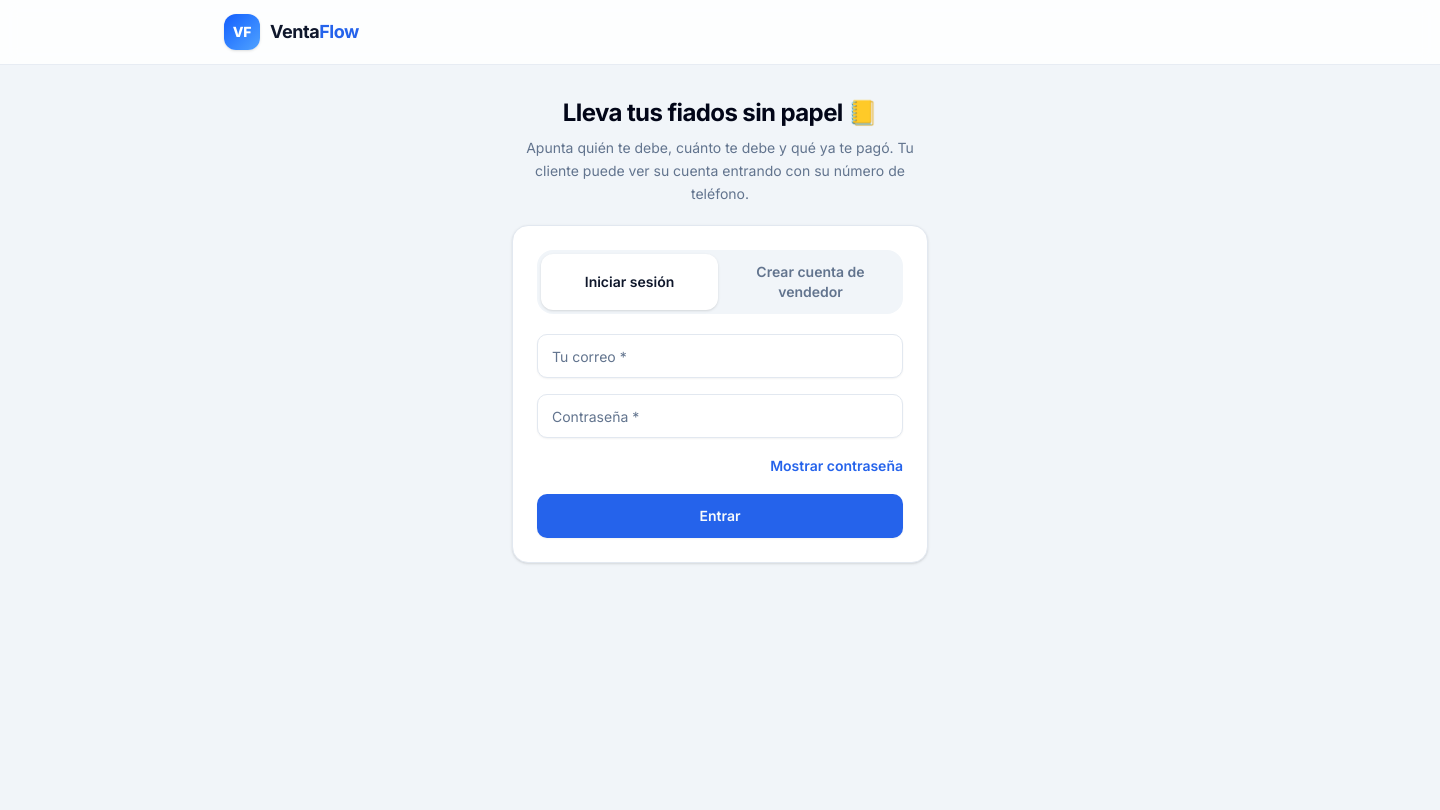
Test: VendorAuthScreen › un login fallido muestra el error traducido
Type "juan@x.com" into the field with placeholder "Tu correo *" at point(720, 356), box [537,334,903,378]
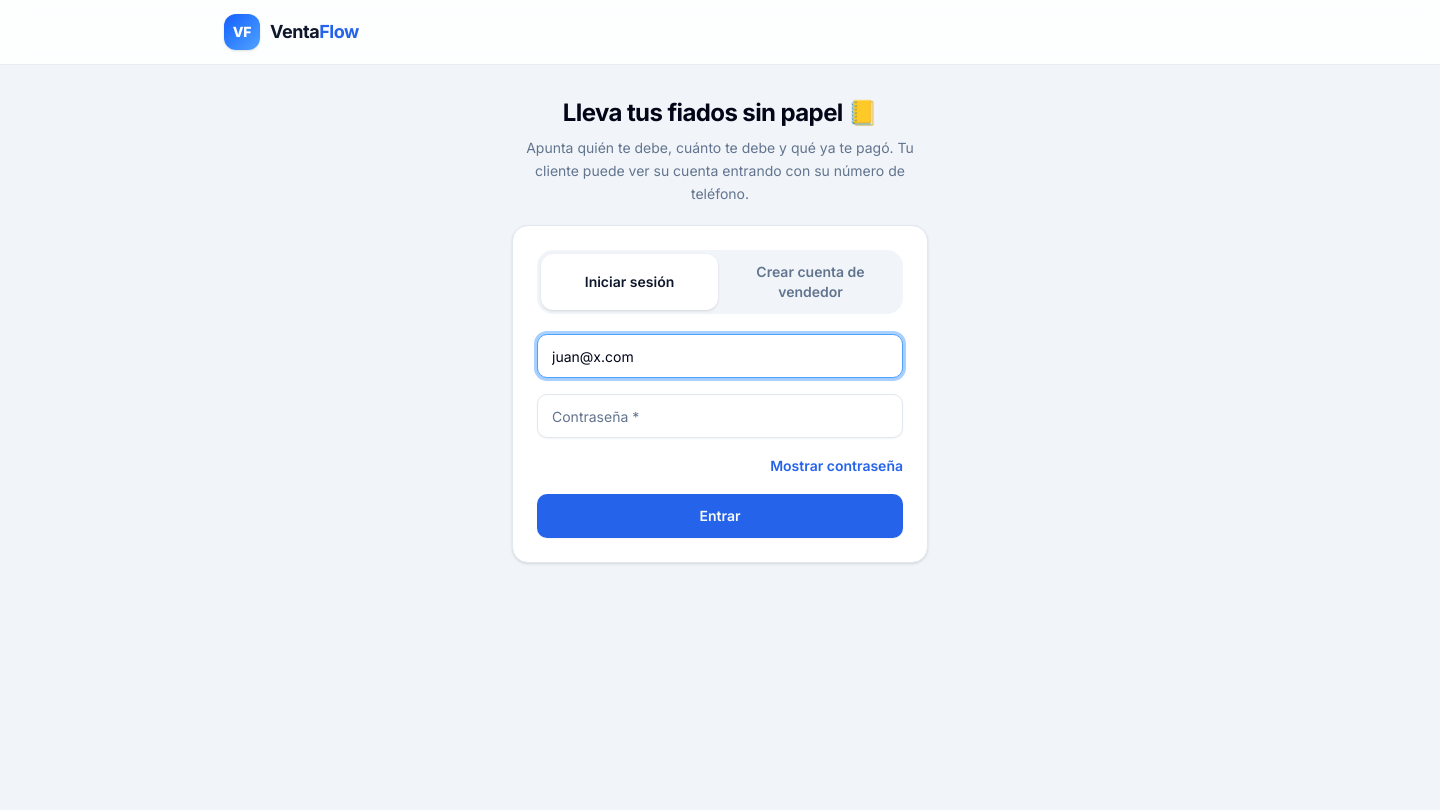
Type "mala" into the password field with placeholder "Contraseña *" at point(720, 416), box [537,394,903,438]
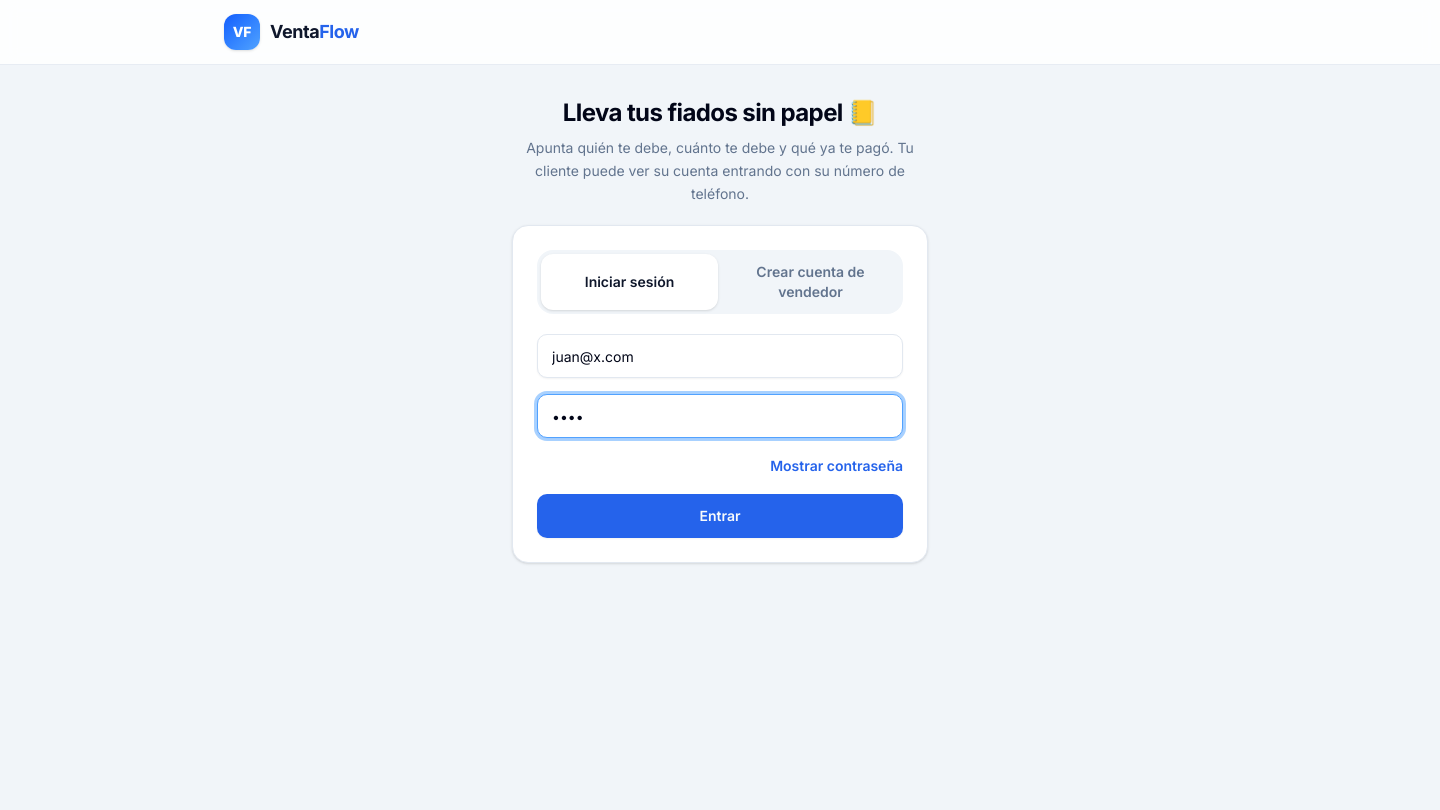
Click the button "Entrar" at point(720, 516), box [537,494,903,538]
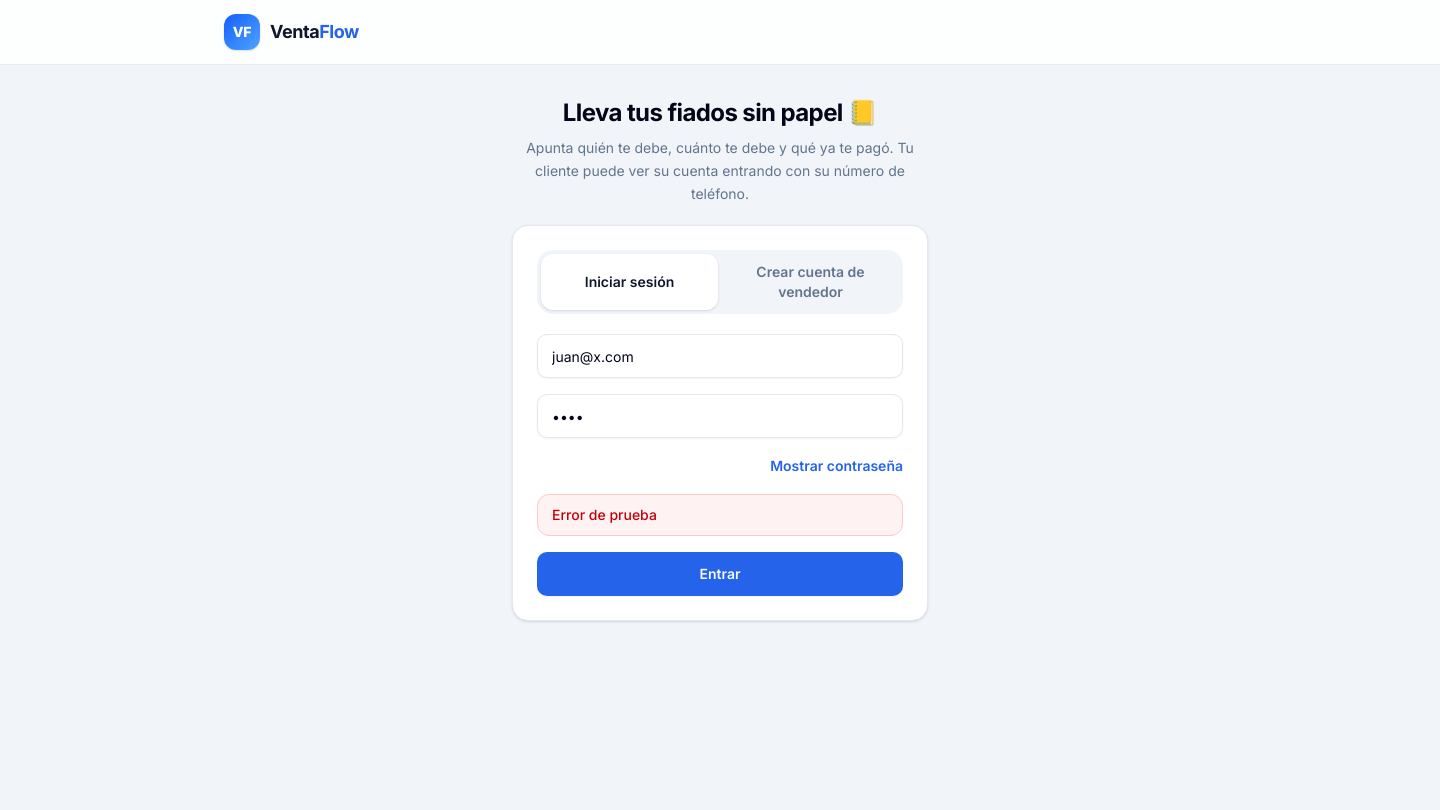
Expected: the text "Error de prueba" is shown, [537,494,903,536]
